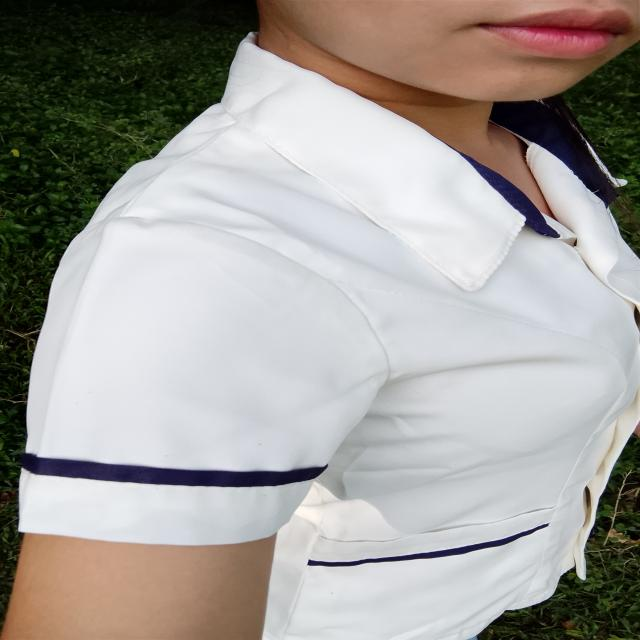education_female_uniform: (39, 25, 640, 640)
